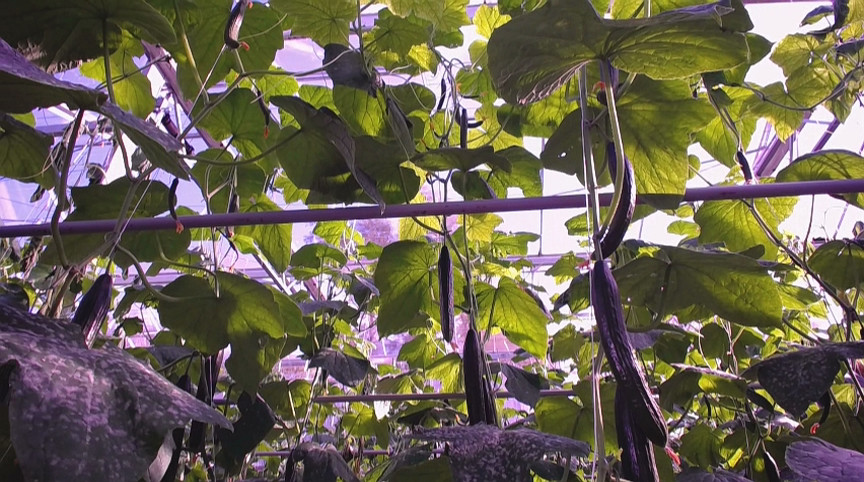cucumber: (591, 261, 669, 446), (594, 141, 637, 260), (613, 386, 660, 482), (189, 348, 226, 455), (74, 275, 116, 349), (463, 331, 488, 423), (436, 246, 455, 343)
